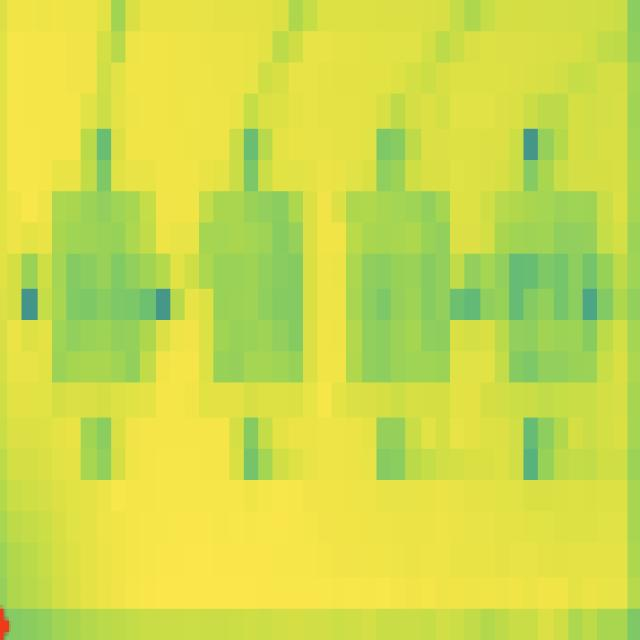Concrete: (46, 183, 164, 411)
Glass: (488, 166, 604, 401)
Metal: (191, 163, 310, 403)
Wood: (338, 175, 464, 422)
